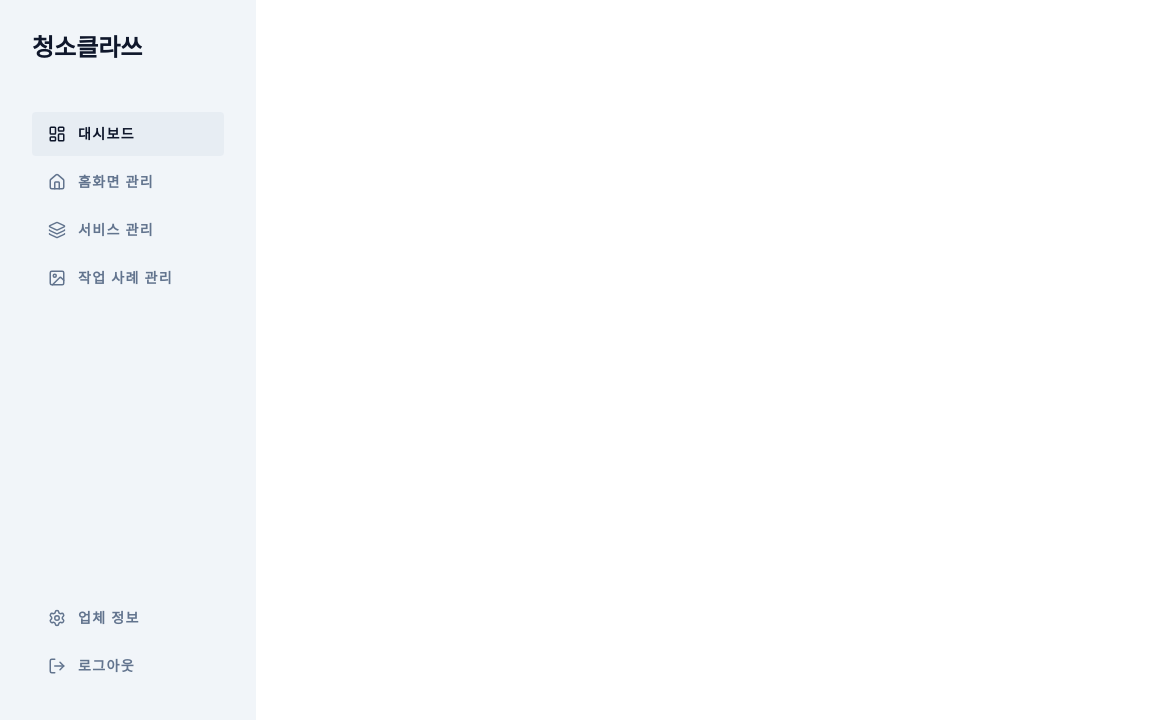
it: 업체 정보 설정 팝업 › 메뉴를 로그아웃 위에 표시하고 경로 이동 없이 팝업을 연다
Click the button "업체 정보". click: (128, 618)
box: 32,596 -> 224,640
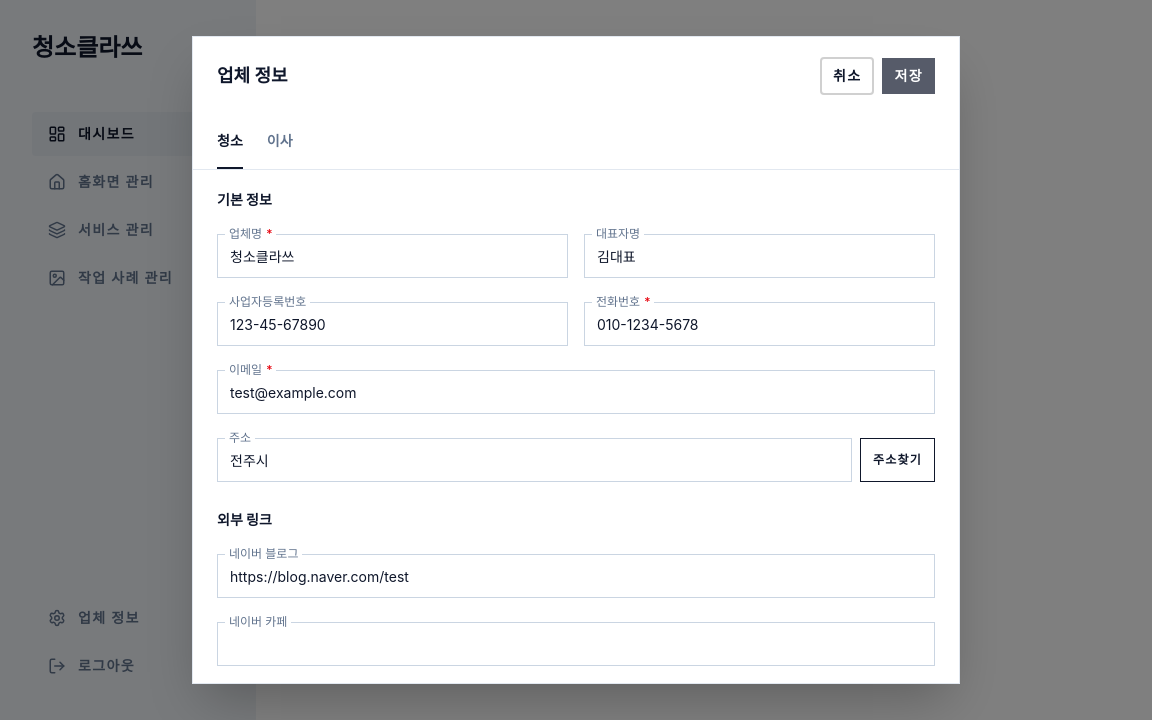
Check: the dialog is shown
Check: the dialog "업체 정보" is shown
Check: the field labelled "업체명" holds "청소클라쓰", box 217,234 -> 568,278
